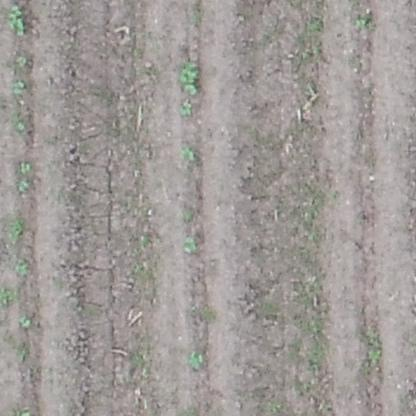vc: (7, 3, 29, 35), (179, 63, 199, 95), (182, 236, 199, 256), (187, 351, 204, 369), (178, 100, 194, 117), (16, 256, 28, 276), (20, 161, 38, 174), (12, 80, 25, 97), (182, 145, 194, 163), (15, 180, 30, 192), (19, 56, 29, 68), (20, 318, 31, 328), (17, 122, 26, 132), (357, 18, 369, 25)
